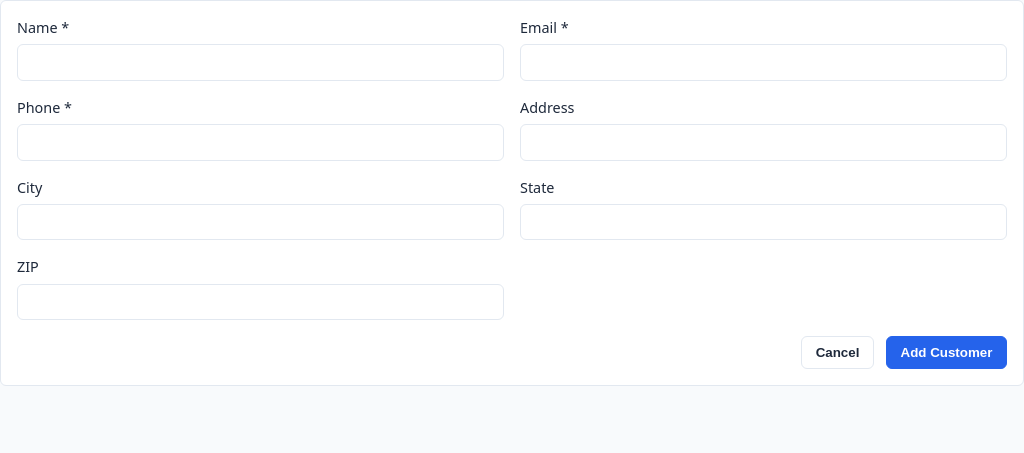
CustomerForm › shows validation errors when submitting empty form
Click the button "Add Customer" at (946, 353), box top-left (886, 336), bottom-right (1007, 369)
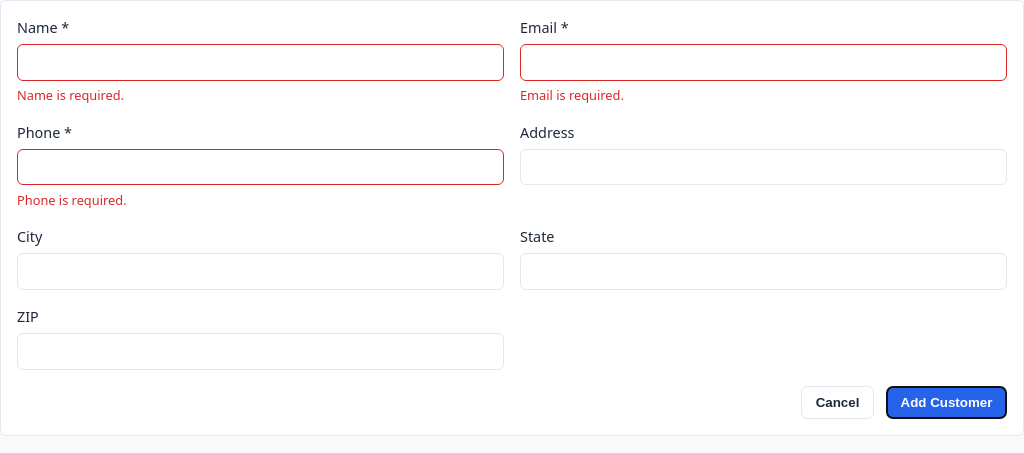
Expected: the text "Name is required." is shown, top-left (17, 86), bottom-right (124, 104)
Expected: the text "Email is required." is shown, top-left (520, 86), bottom-right (624, 104)
Expected: the text "Phone is required." is shown, top-left (17, 191), bottom-right (126, 209)
